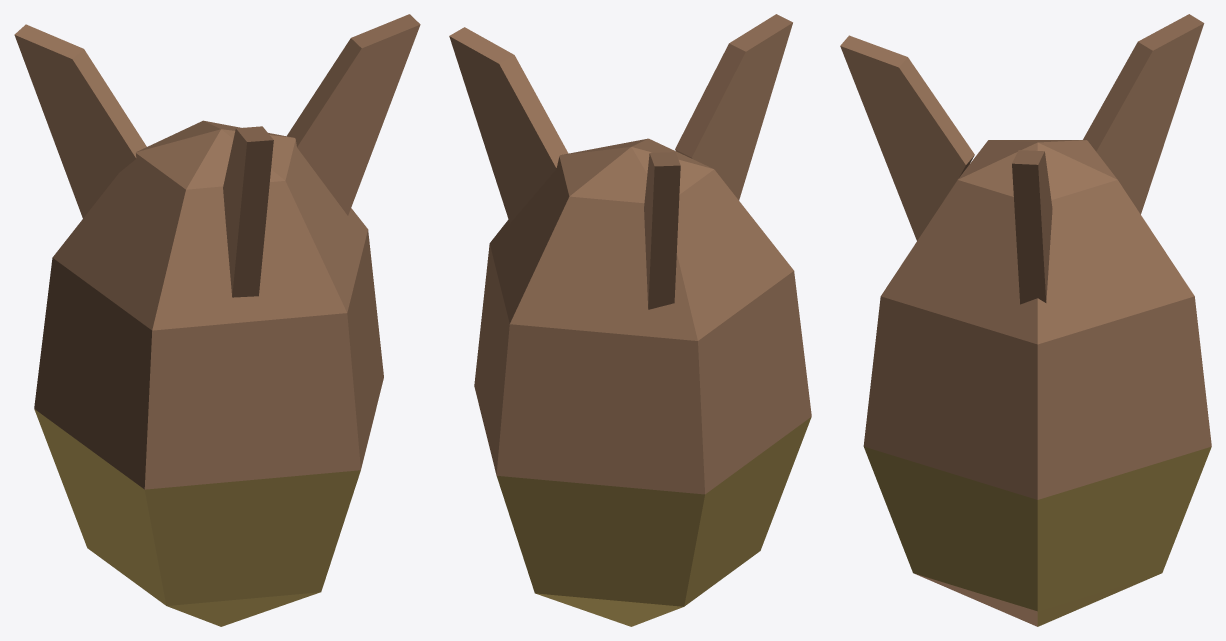
The model's file is Бомба (падает).fbx.
The picture shows the model from 3 angles, left to right: view 1: azimuth 30°, elevation 25°; view 2: azimuth 150°, elevation 25°; view 3: azimuth 270°, elevation 25°; orthographic projection. The views are drawn at different scales.
Parts seen in each view (by area): view 1: pCube4; view 2: pCube4; view 3: pCube4.
Part boxes in pixels (box(x1,y1,x2,y2)): pCube4: box(14, 14, 420, 626); pCube4: box(449, 14, 811, 626); pCube4: box(840, 14, 1211, 626).
Size of the model in its own units: 0.2685 by 0.4589 by 0.2771.
